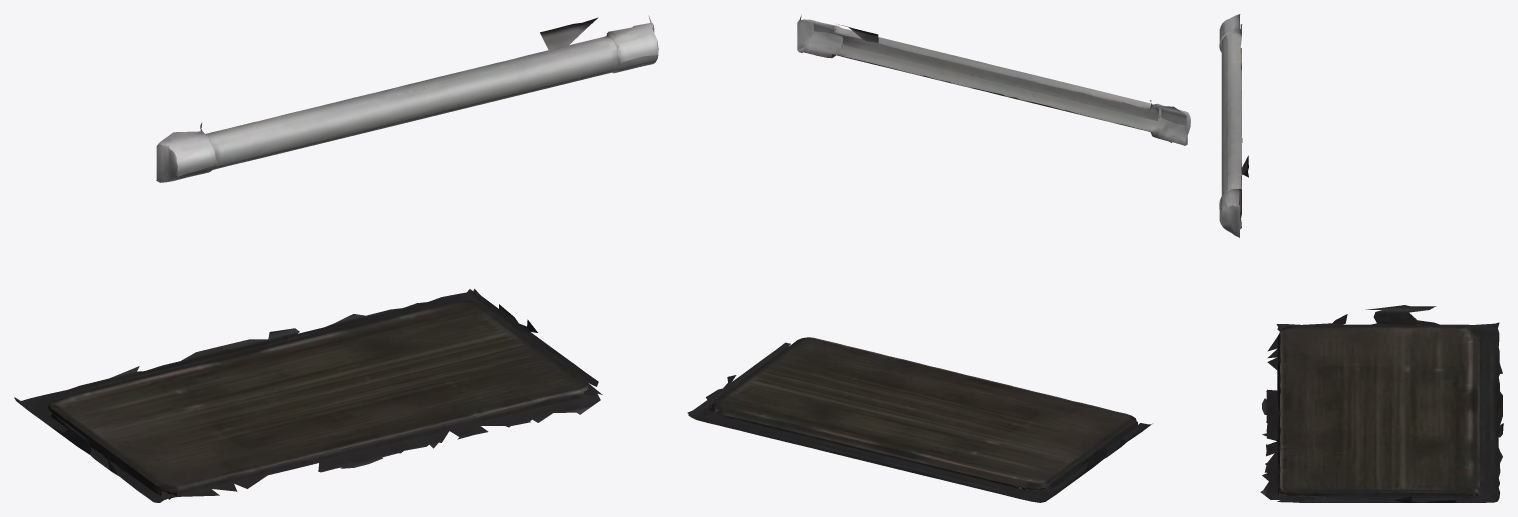
The model's file is door.glb.
The picture shows the model from 3 angles, left to right: view 1: azimuth 30°, elevation 25°; view 2: azimuth 150°, elevation 25°; view 3: azimuth 270°, elevation 25°; orthographic projection. The views are drawn at different scales.
Visible parts, largest first — view 1: world; view 2: world; view 3: world.
Boxes of the visible parts, <box> form: world: <box>14,15,658,502</box>; world: <box>687,14,1190,502</box>; world: <box>1219,14,1503,502</box>.
Bounding box in the file's own units: 0.4253 × 0.3266 × 0.2639.
1 material, 1 textured.
